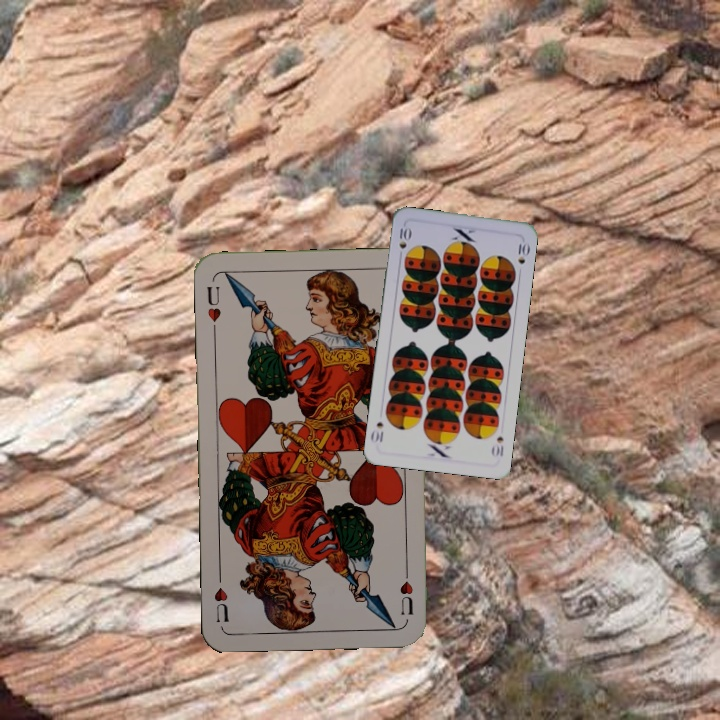HU: (203, 281, 224, 336), (396, 562, 416, 618)
S10: (395, 223, 413, 251), (488, 433, 506, 459)
